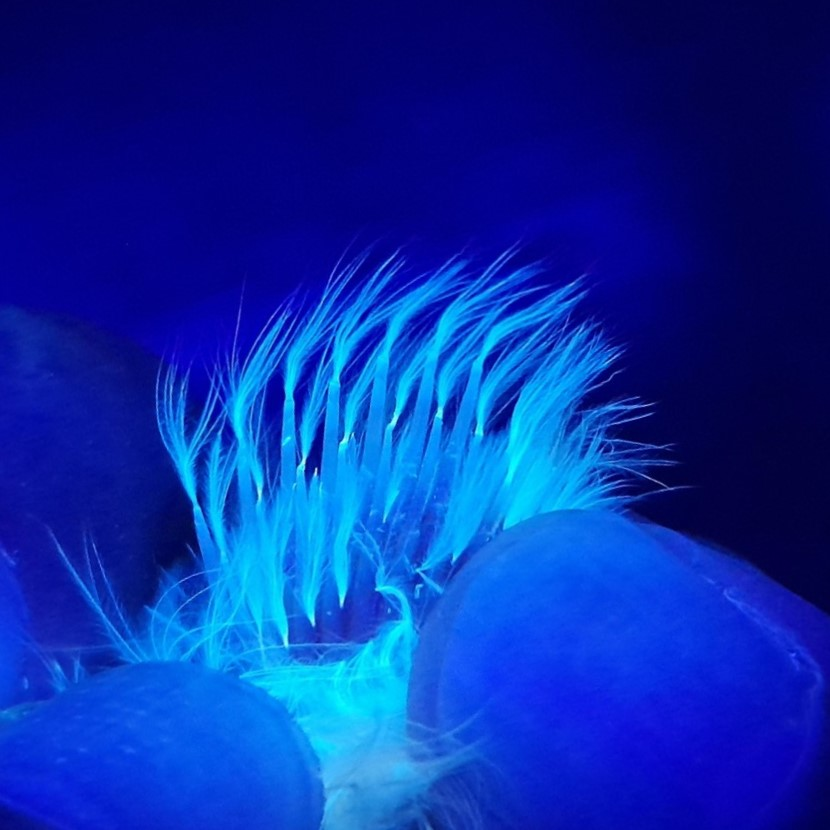female: (172, 322, 544, 670)
